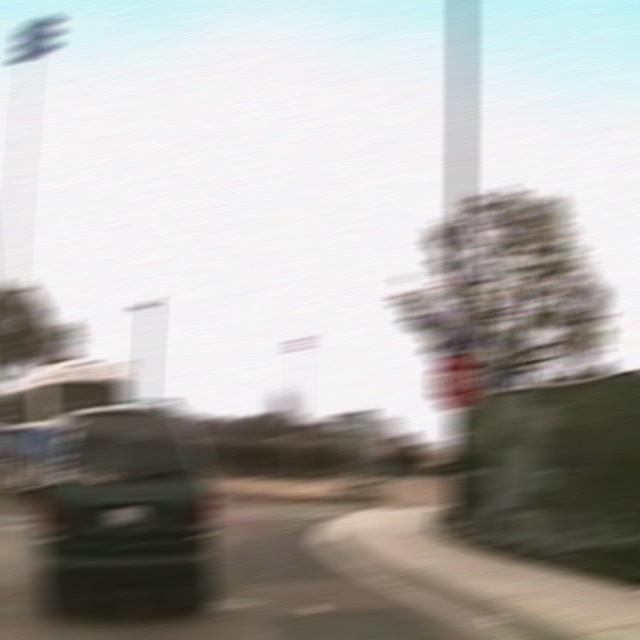stop_sign: (432, 350, 483, 410)
